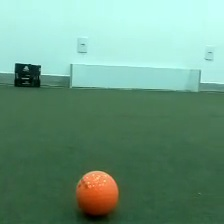ball: (73, 168, 120, 219)
goal: (67, 60, 202, 94)
robot: (12, 60, 41, 89)
